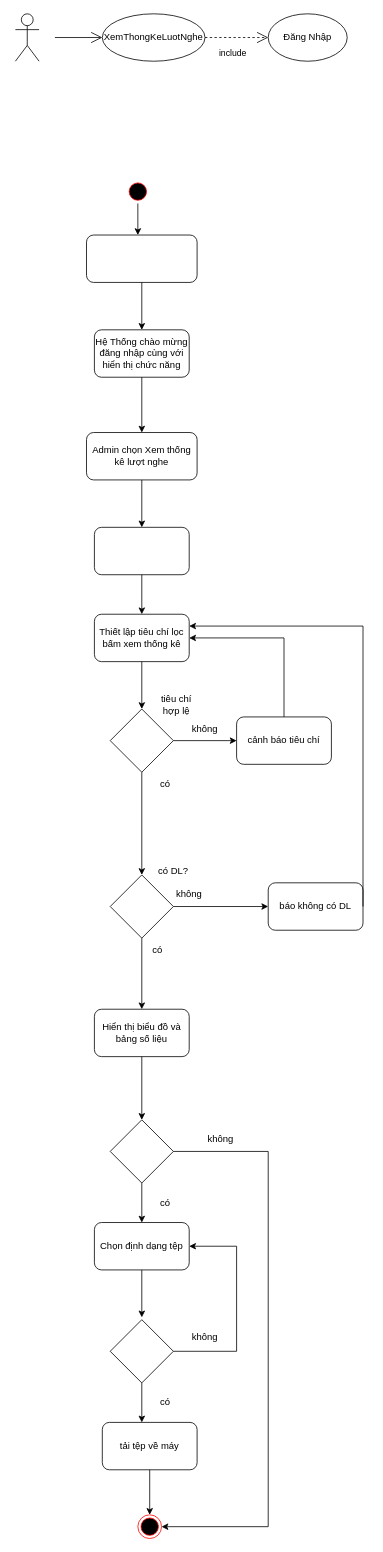
The diagram is 383 pixels wide and 1552 high, and some of its shapes have lost their labels. The centre of each missing label's shape, as x and y in pixels:
"Admin" belongs at pixel 27 37.
"Admin chọn chức năng đăng nhập" belongs at pixel 141 258.
"Hệ Thống hiển thị bộ lọc tiêu chí báo cáo" belongs at pixel 141 551.
"tạo tệp được" belongs at pixel 141 1351.
"xuất báo cáo" belongs at pixel 141 1151.
